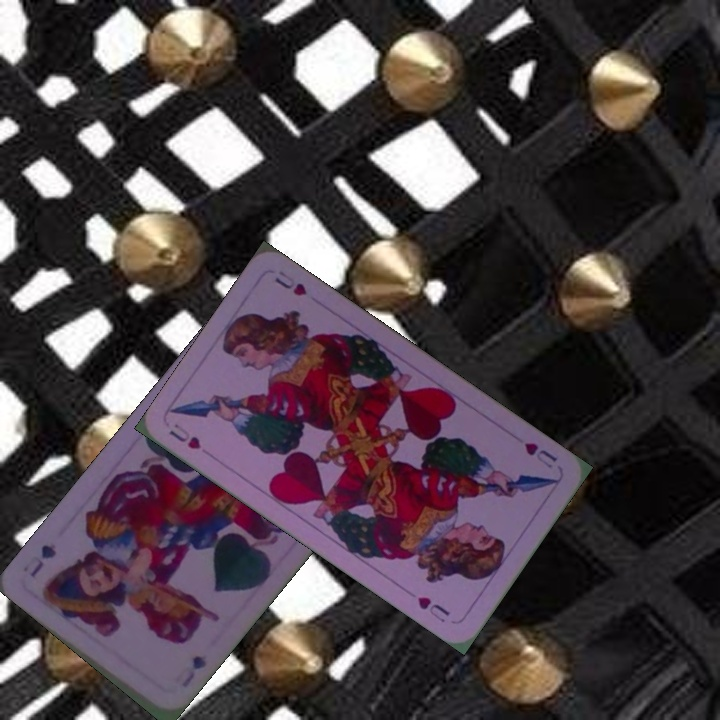GU: (177, 651, 209, 691)
HU: (519, 438, 560, 471), (165, 420, 205, 452)
